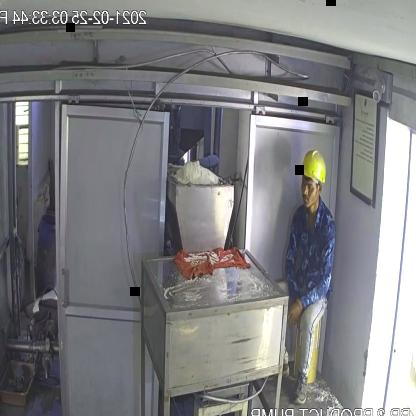helmet: (298, 149, 328, 185)
